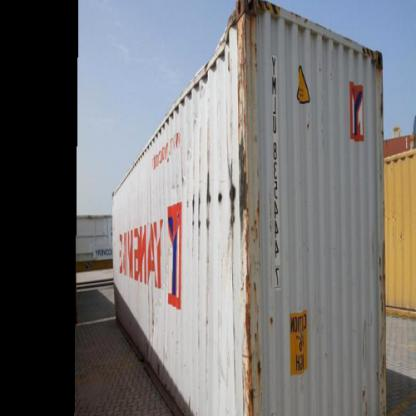Damage: (224, 7, 289, 415), (376, 232, 400, 415), (183, 165, 223, 234), (137, 274, 161, 354)
